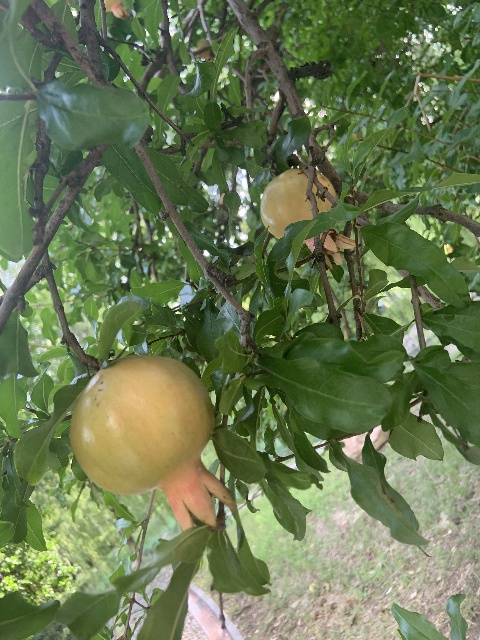mid-growth: (69, 355, 234, 532), (260, 167, 356, 270)
